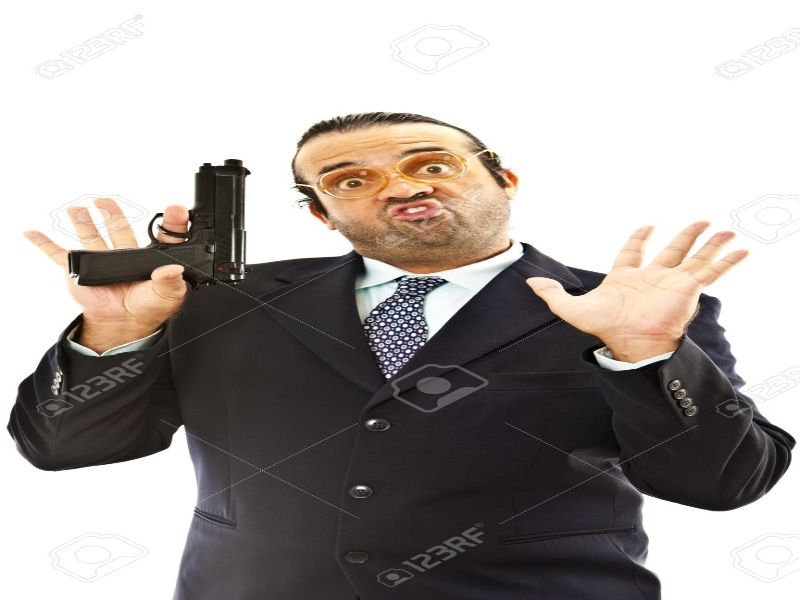gun: (59, 152, 268, 291)
